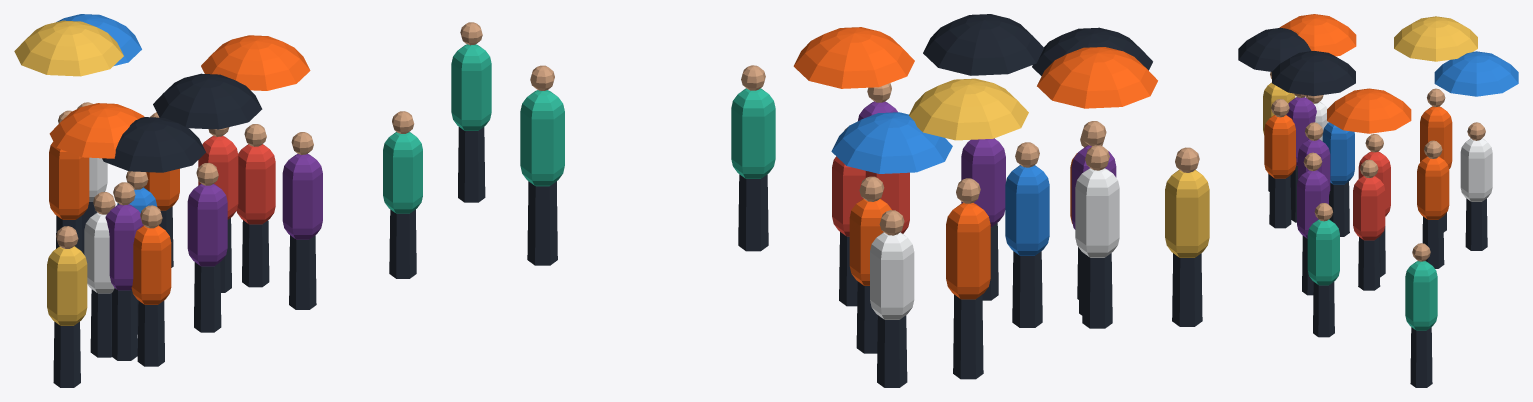
The model's file is spectators_b.glb.
3 renders of one model, left to right at view 1: azimuth 30°, elevation 25°; view 2: azimuth 150°, elevation 25°; view 3: azimuth 270°, elevation 25°, orthographic. The views are drawn at different scales.
Parts seen in each view (by area): view 1: spectators; view 2: spectators; view 3: spectators.
Boxes of the visible parts, x1,y1,x2,y2 form: spectators: [14, 14, 491, 387]; spectators: [520, 14, 1209, 387]; spectators: [1238, 14, 1518, 387].
Size of the model in its own units: 5.72 by 2.72 by 3.31.
